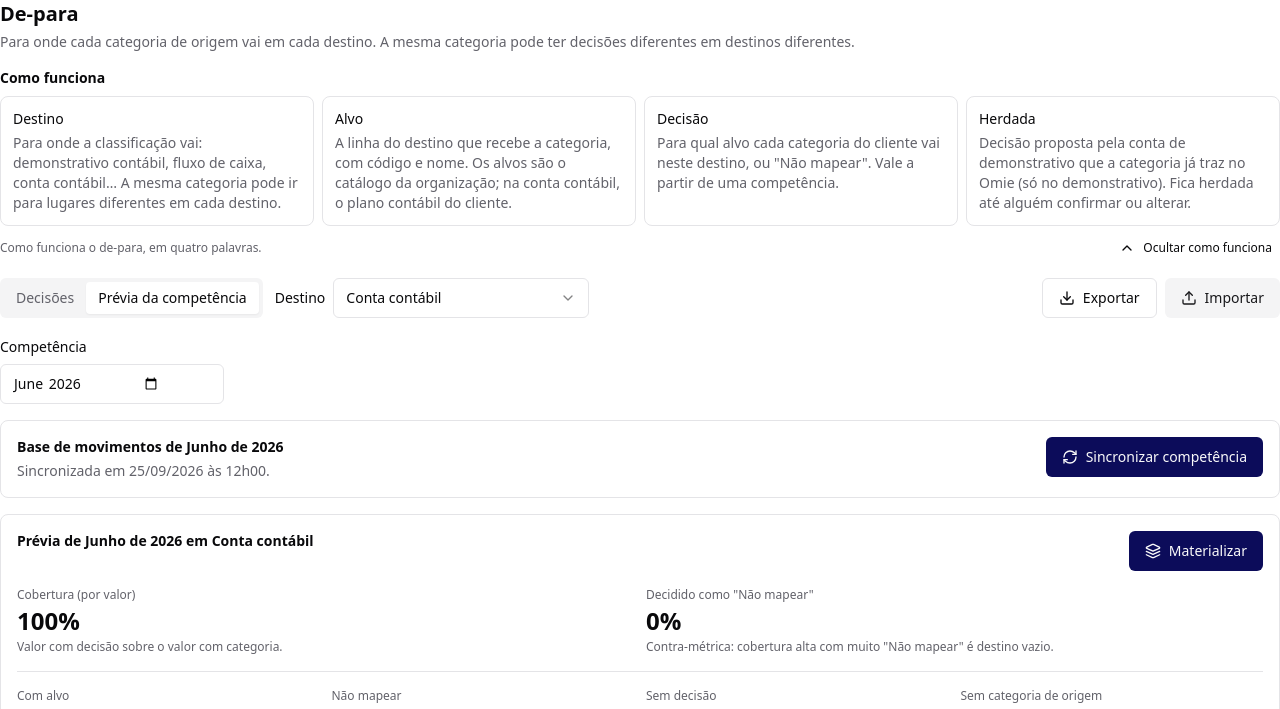
Scenario: avisos por perfil — só manda agir quem tem manage_client_accounting_chart › prévia: contas de origem pendentes › recusa 409 para o gerente do cliente (materializa, mas não associa): sem o botão nem "Associe"
The width and height of the screenshot is (1280, 709).
What coordinates should you click on to do the following:
click the button "Materializar"
I would click on:
 (1196, 551)
Its box is top-left (1129, 531), bottom-right (1263, 571).
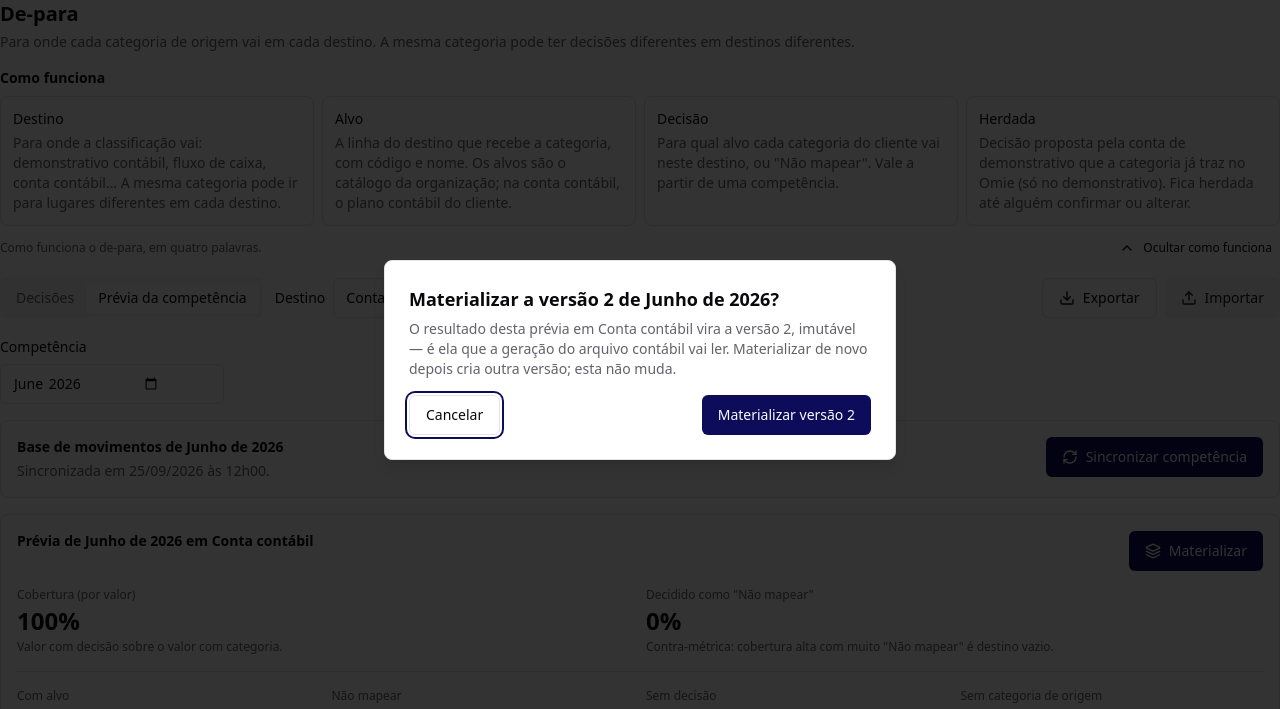
What coordinates should you click on to do the following:
click the button "Materializar versão 2"
I would click on:
 (786, 415)
Its box is top-left (702, 395), bottom-right (871, 435).
(page scrolled)
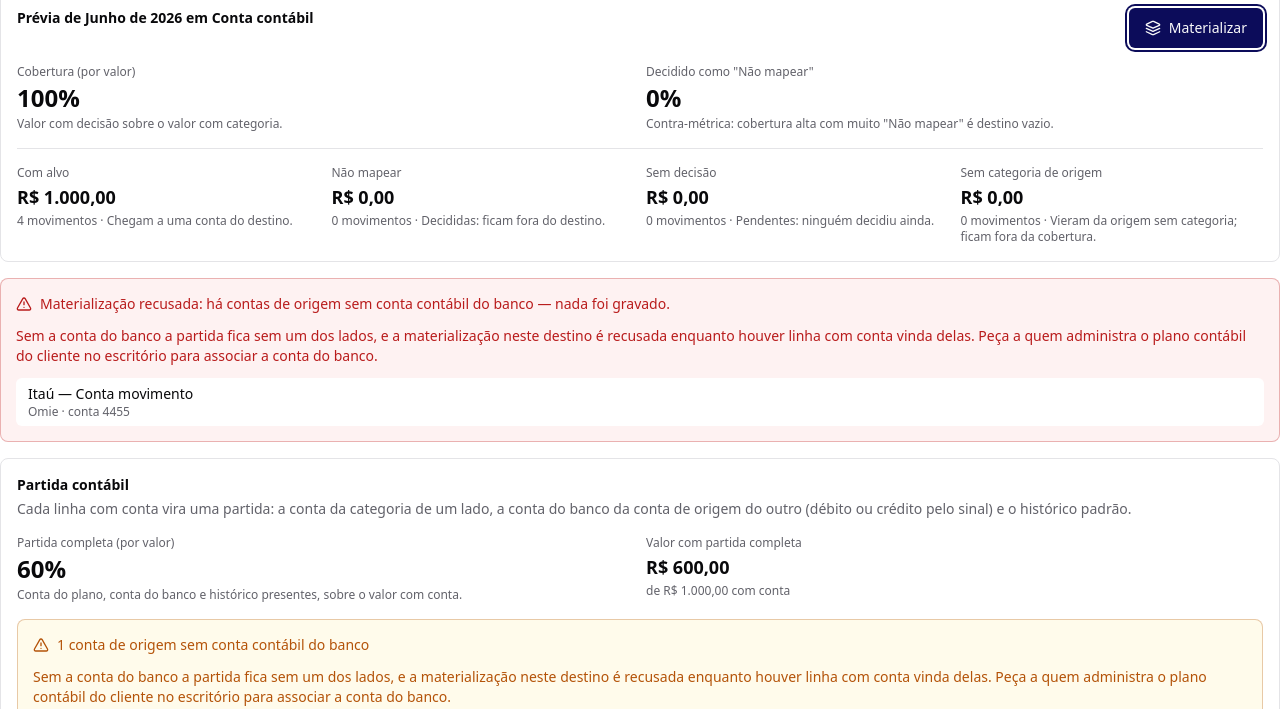
Expected: the message with test id "bank-pending-refusal" does not show "Associe", top-left (0, 278), bottom-right (1279, 442)
Result: the message with test id "bank-pending-refusal" shows "Itaú — Conta movimento" at top-left (28, 384), bottom-right (193, 403)
Result: the message with test id "bank-pending-refusal" shows "Peça a quem administra o plano contábil" at top-left (16, 326), bottom-right (1246, 365)
